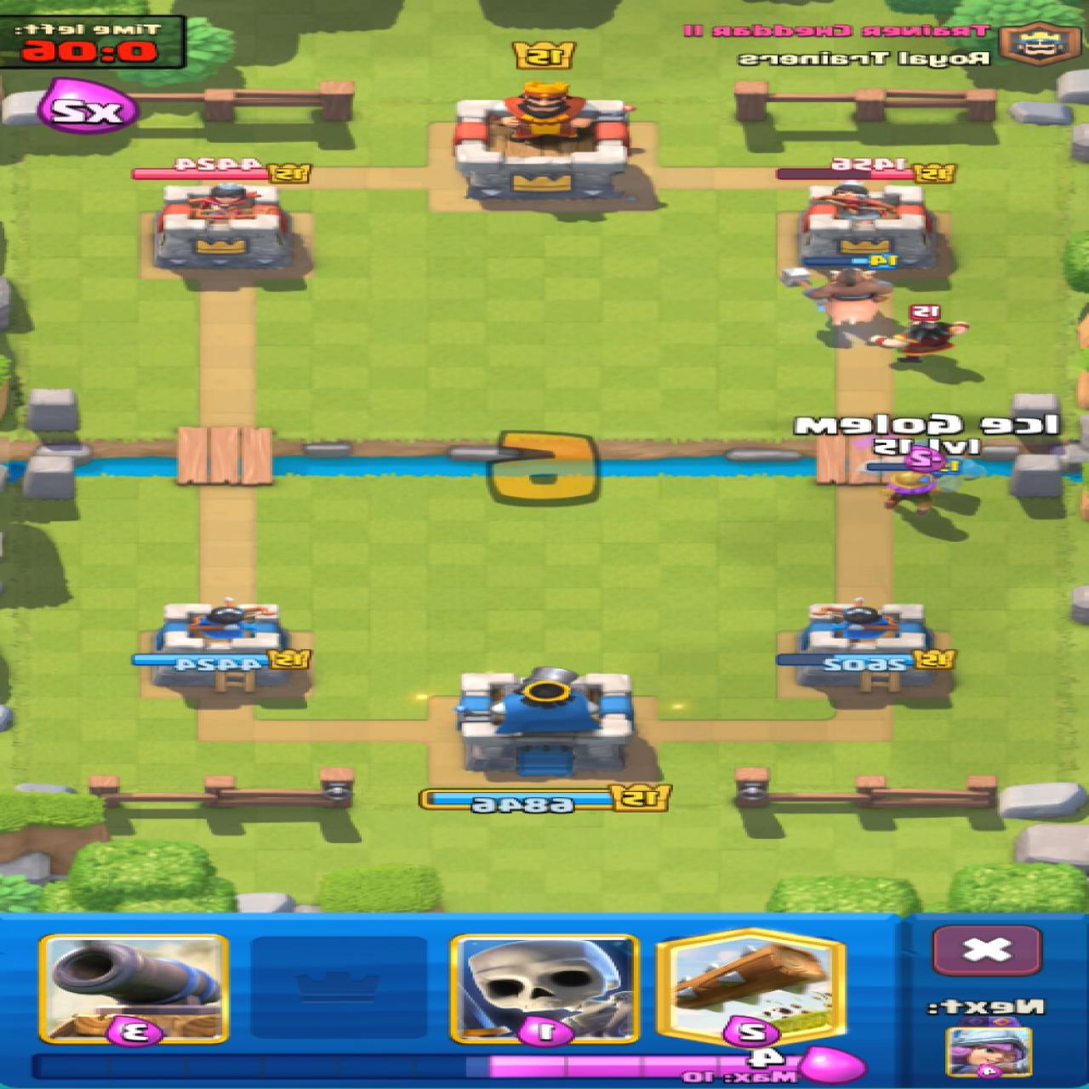Enemy-ElectroWizard: (871, 305, 969, 357)
Enemy-KingTower: (455, 84, 629, 199)
Enemy-PrincessTower: (155, 184, 298, 279), (802, 182, 937, 268)
